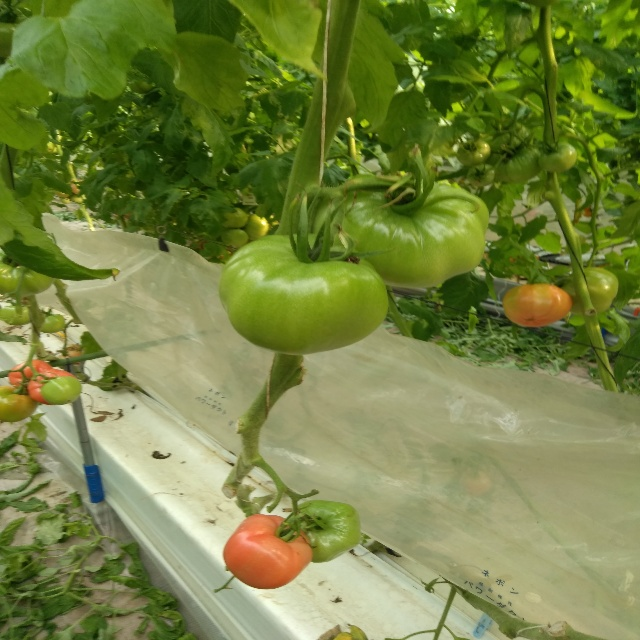b_fully_ripened: (26, 368, 78, 405), (8, 358, 53, 394)
b_green: (218, 233, 389, 356), (307, 175, 489, 287), (286, 500, 361, 564), (561, 266, 619, 315), (0, 248, 55, 298), (486, 145, 543, 182), (40, 376, 82, 405), (539, 141, 577, 172), (457, 139, 490, 165), (466, 162, 495, 186), (0, 306, 33, 326), (244, 214, 268, 241), (221, 207, 247, 229), (221, 229, 249, 248), (41, 314, 65, 334)
b_half_ripened: (223, 514, 312, 590), (502, 283, 572, 327), (0, 385, 38, 422)
